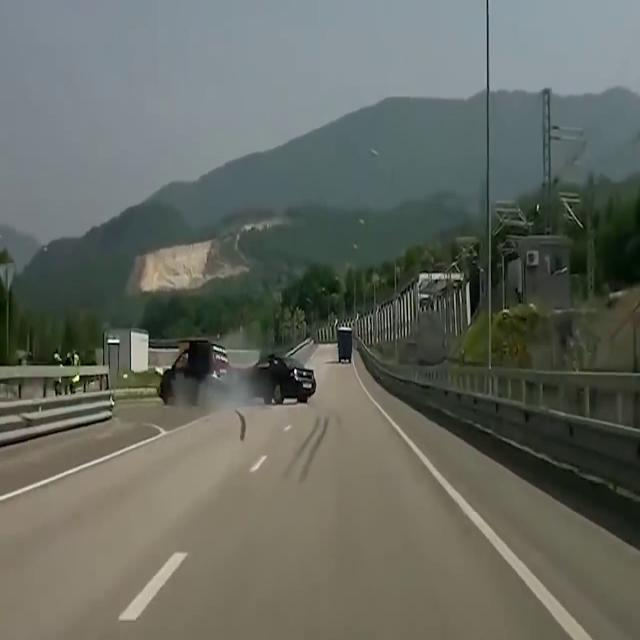multiple_accident: (107, 298, 333, 457)
